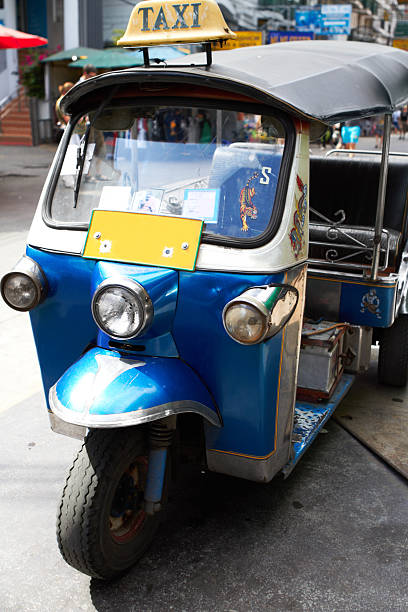threewheel: (1, 1, 408, 578)
